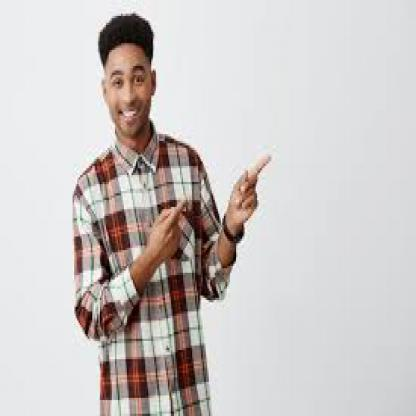Left: (225, 147, 280, 235), (148, 191, 192, 266)
